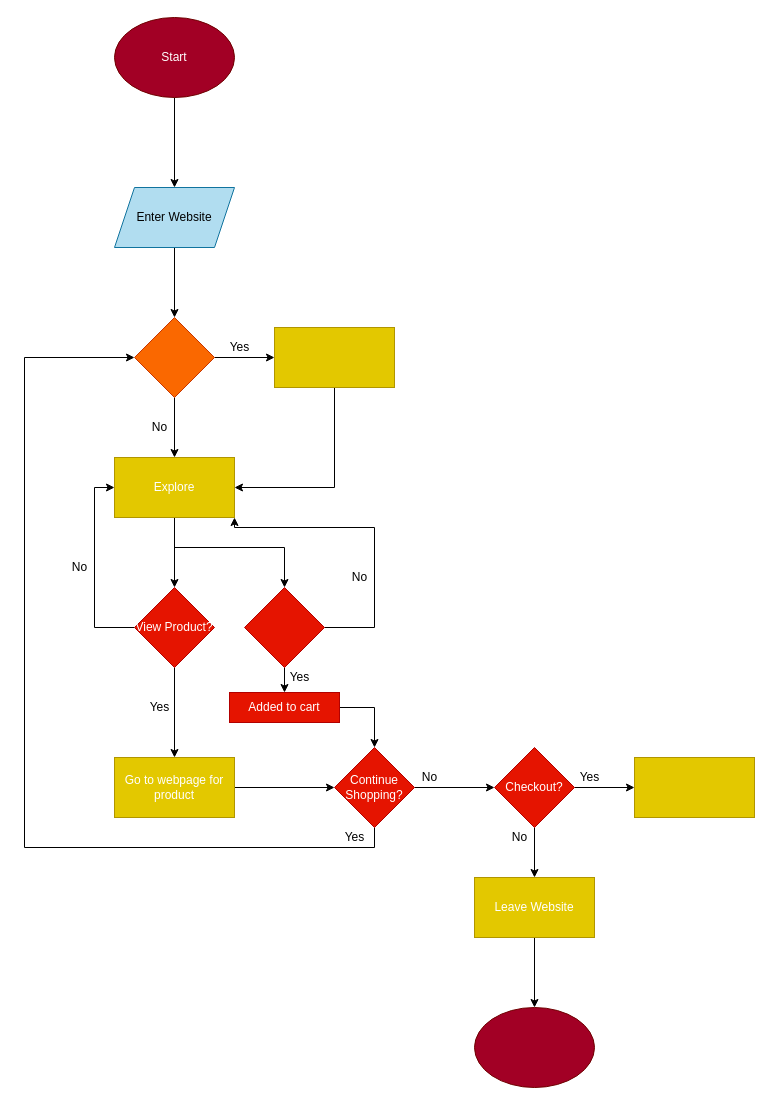
The diagram is 772 pixels wide and 1105 high, and some of its shapes have lost their labels. The centre of each missing label's shape, as x and y in pixels:
Add to cart?: point 284,627
End: point 534,1047
input search: point 334,357
Search?: point 174,357
View Cart Page: point 694,787
